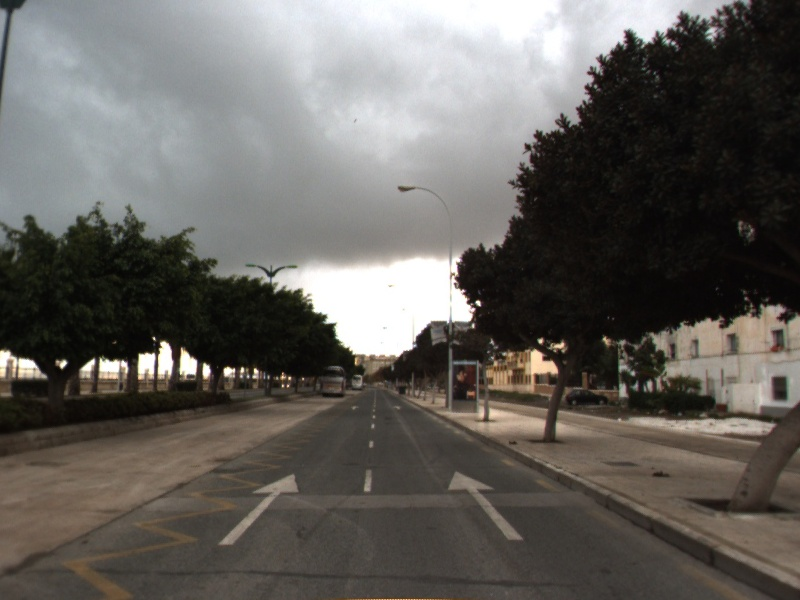STRAIGHT: (216, 470, 302, 548), (444, 468, 529, 543)
